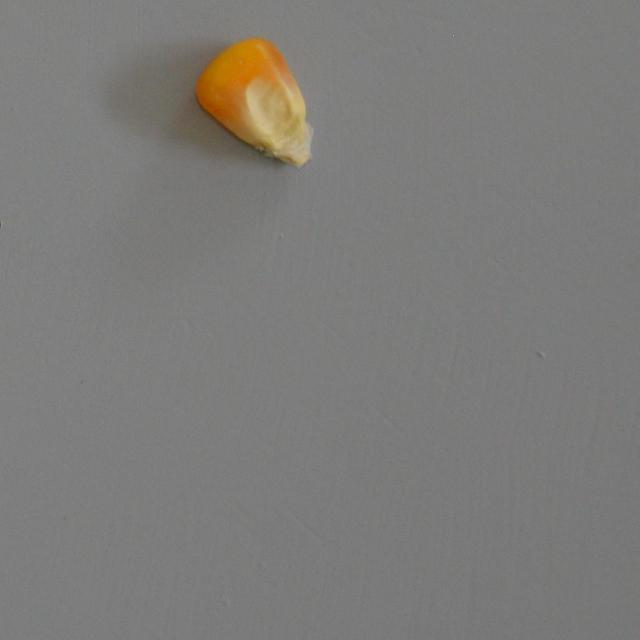entero: (193, 34, 316, 169)
